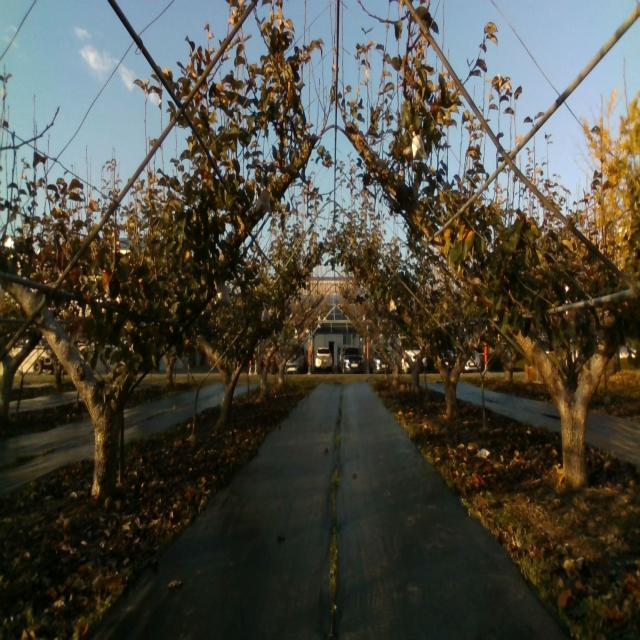pearbags: (214, 283, 232, 306), (412, 131, 426, 160), (255, 188, 271, 212)
